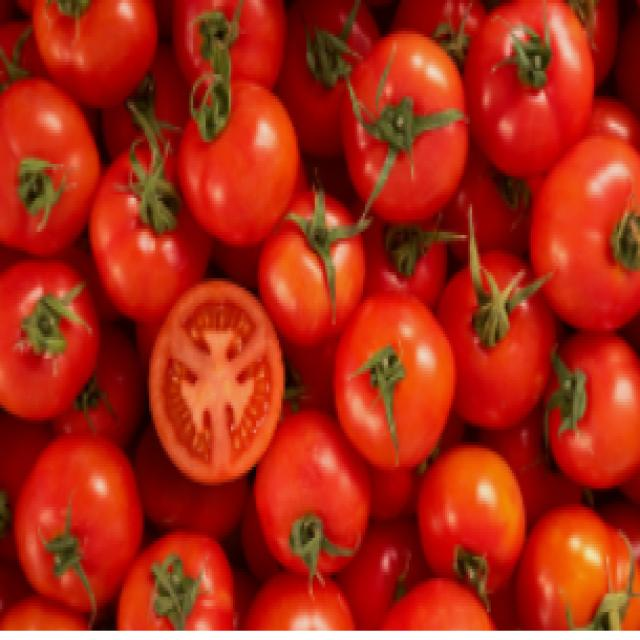Tomato: (152, 270, 298, 479), (348, 29, 476, 239), (336, 295, 462, 474), (466, 0, 601, 162), (180, 59, 296, 240), (449, 252, 558, 434)
